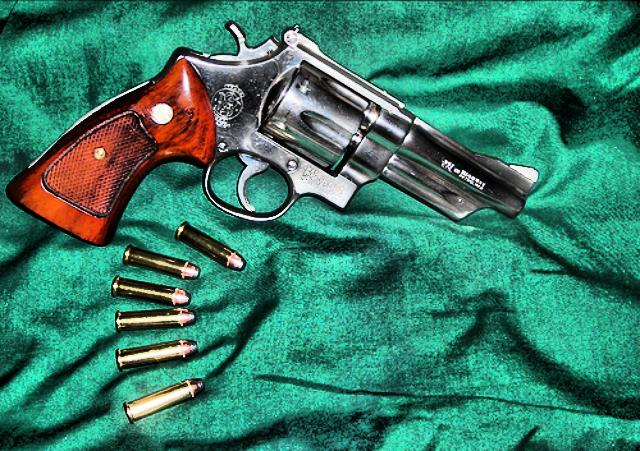pistol: (3, 21, 539, 241)
